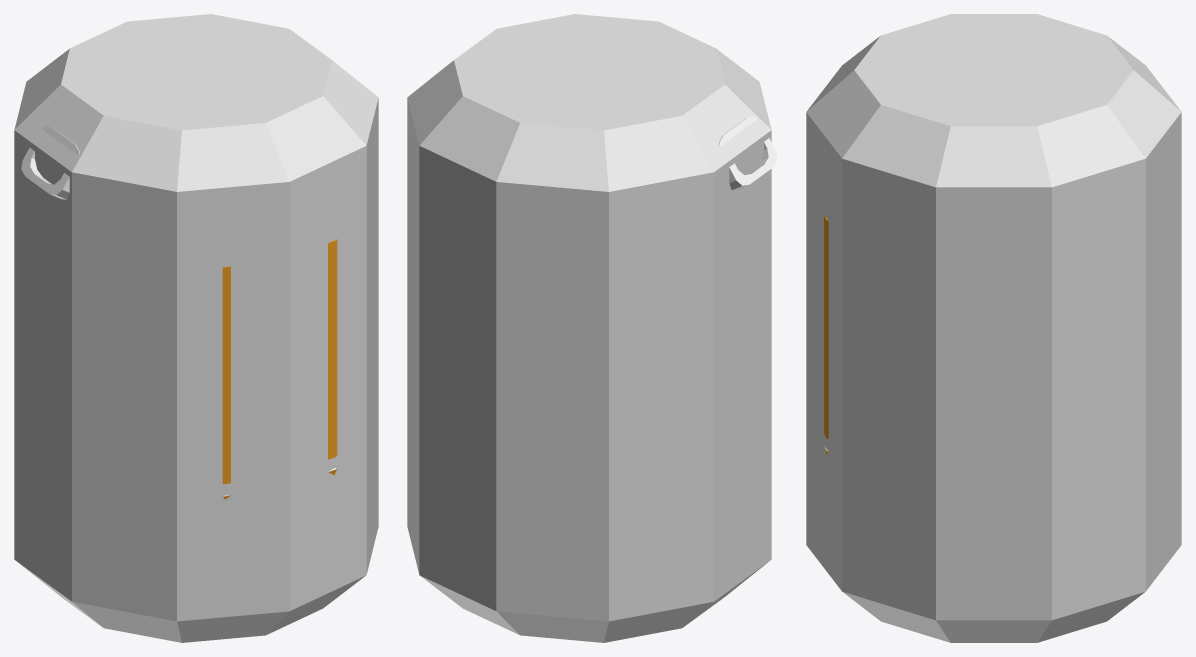
Rendered from ArenaBarrelYellow.fbx.
3 views of the same model, side by side, from view 1: azimuth 30°, elevation 25°; view 2: azimuth 150°, elevation 25°; view 3: azimuth 270°, elevation 25° (orthographic).
Visible parts, largest first — view 1: Cylinder.001, Cylinder; view 2: Cylinder.001, Cylinder; view 3: Cylinder.001, Cylinder.
Boxes of the visible parts, x1,y1,x2,y2 form: Cylinder.001: (14,14,378,642); Cylinder: (21,126,337,499); Cylinder.001: (407,14,771,642); Cylinder: (719,116,777,190); Cylinder.001: (806,14,1181,642); Cylinder: (824,215,828,455).
Bounding box in the file's own units: 86.94 × 133 × 87.89.
